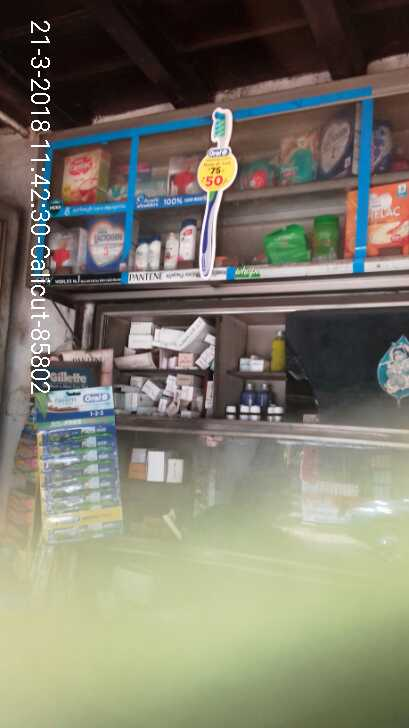oralcare: (37, 387, 126, 544)
